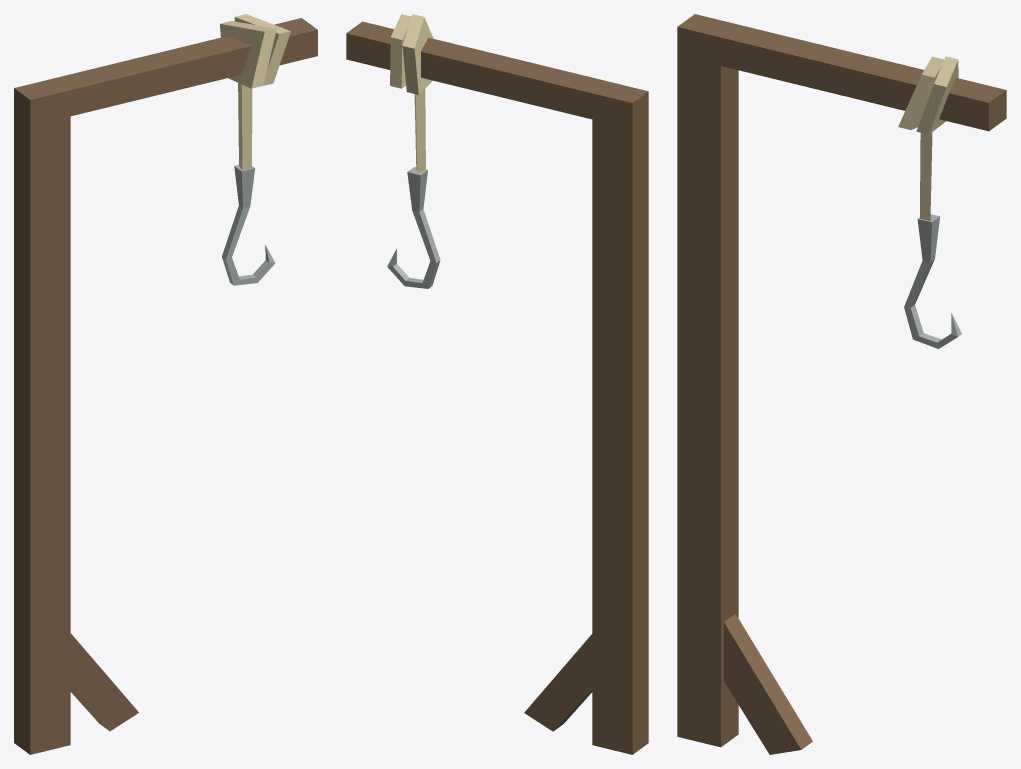
File: Shark_Hook.fbx
The picture shows the model from 3 angles, left to right: view 1: azimuth 30°, elevation 25°; view 2: azimuth 150°, elevation 25°; view 3: azimuth 330°, elevation 25°; orthographic projection. The views are drawn at different scales.
Parts seen in each view (by area): view 1: Shark_Hook; view 2: Shark_Hook; view 3: Shark_Hook.
Boxes of the visible parts, x1,y1,x2,y2 form: Shark_Hook: (14, 14, 317, 754); Shark_Hook: (346, 14, 648, 754); Shark_Hook: (677, 14, 1006, 754).
Bounding box in the file's own units: 194 × 433 × 36.97.
Materials: 1 (1 with a texture image).
